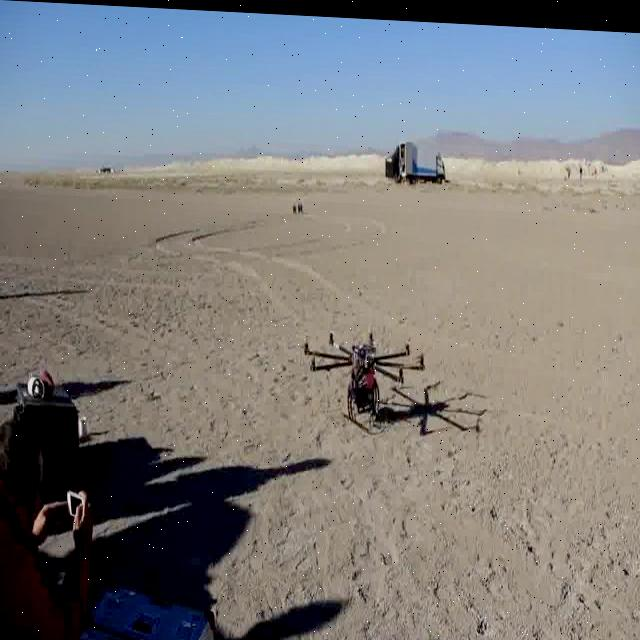drone: (301, 323, 425, 423)
